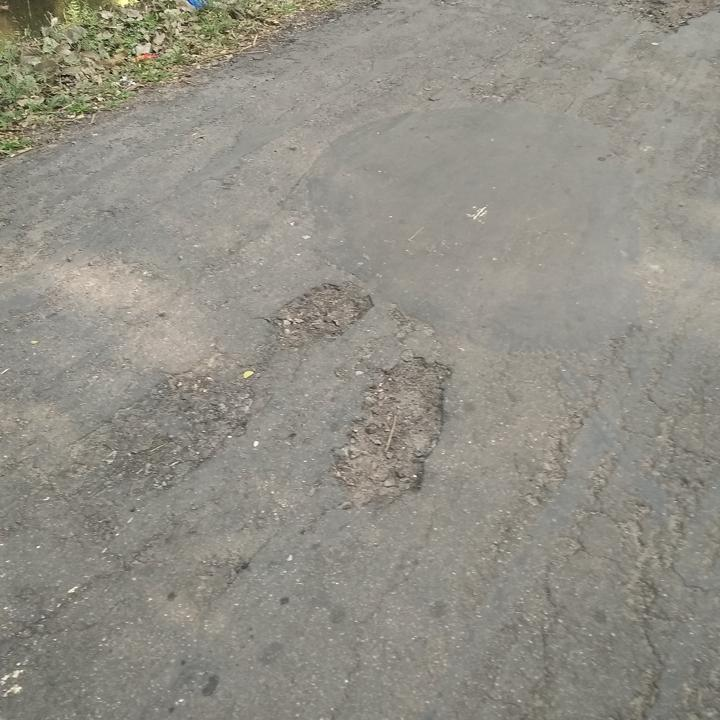Pothole: (81, 373, 271, 503), (341, 351, 464, 517), (263, 251, 372, 364)
